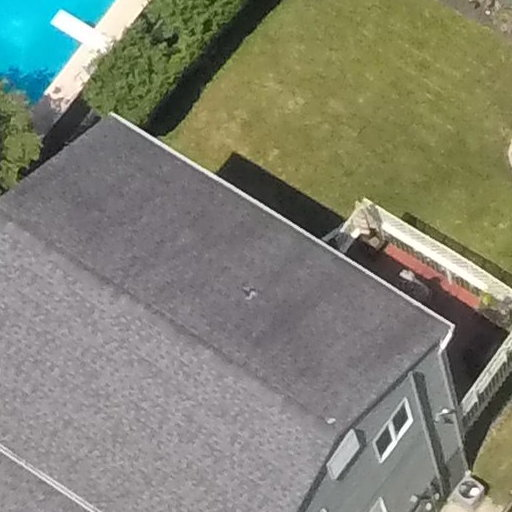air conditioner: (446, 462, 493, 512)
porch: (292, 175, 512, 476)
